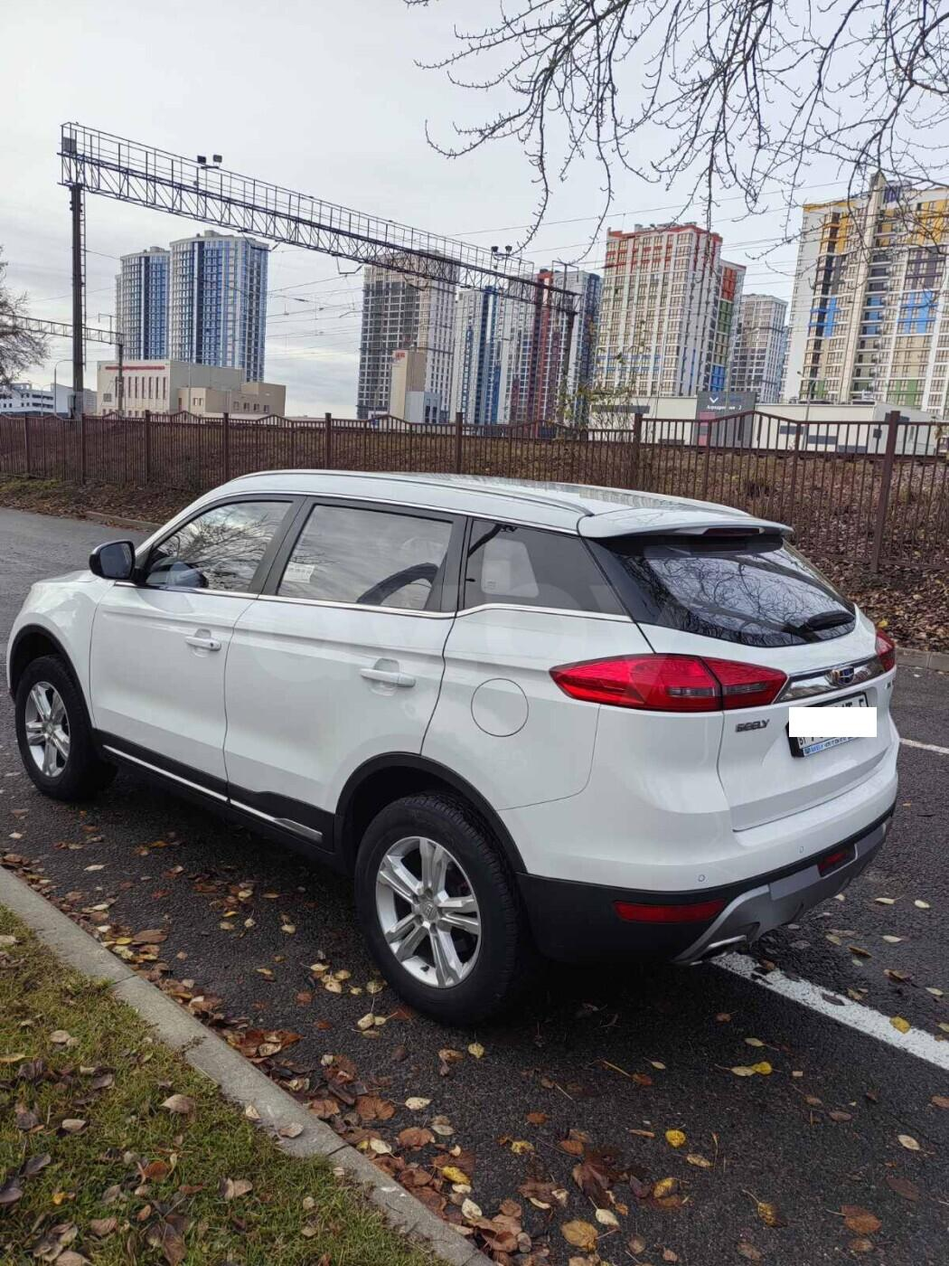Atlas_2016-2023: (0, 461, 909, 1029)
